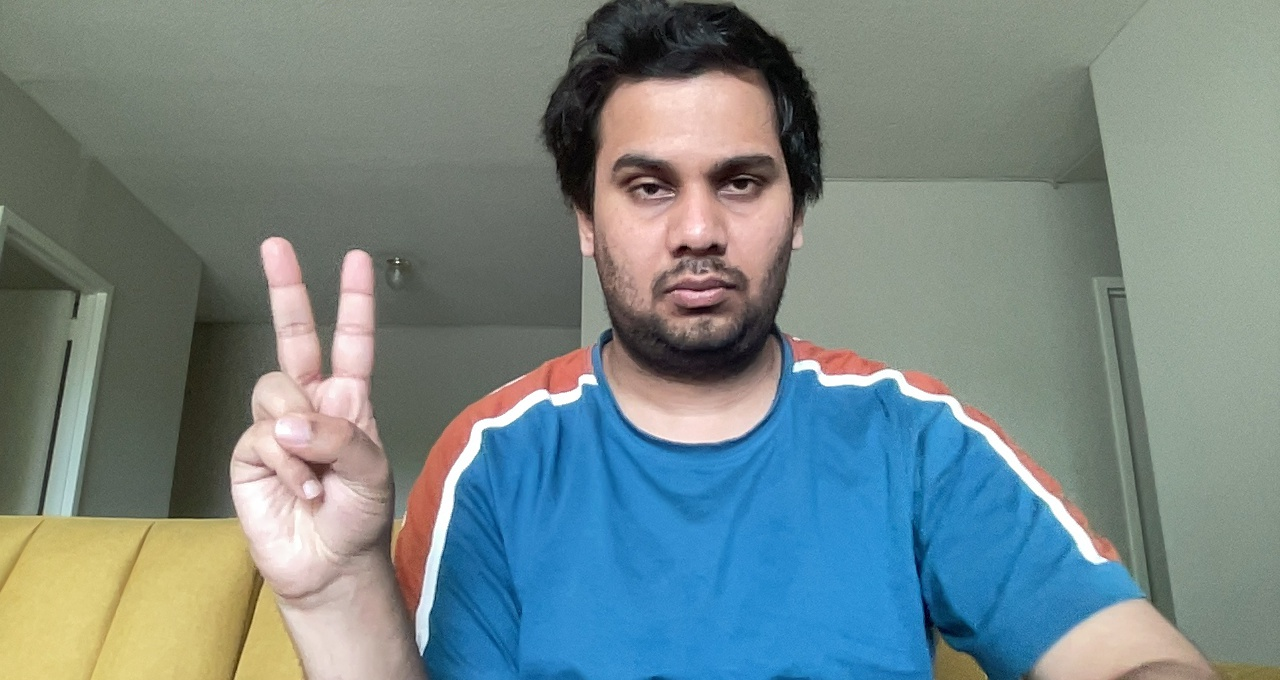peace sign: (213, 235, 406, 582)
